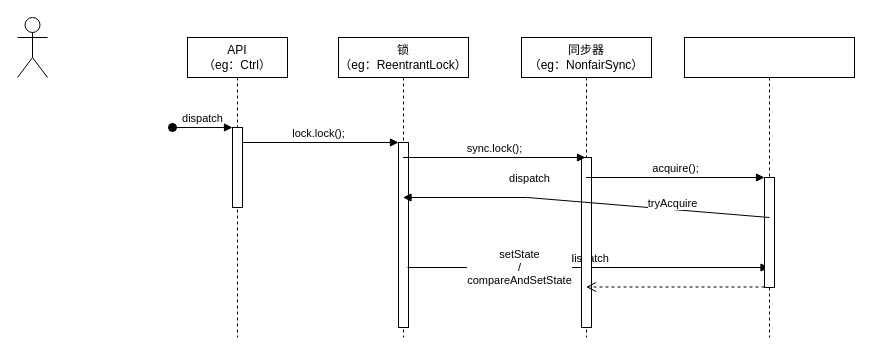
Image size: 872x355. Some labels were removed from this diagram. The centre of each missing label's shape, as x and y in pixels:
AbstractQueuedSynchronizer: point (769, 187)
Actor: point (32, 47)
